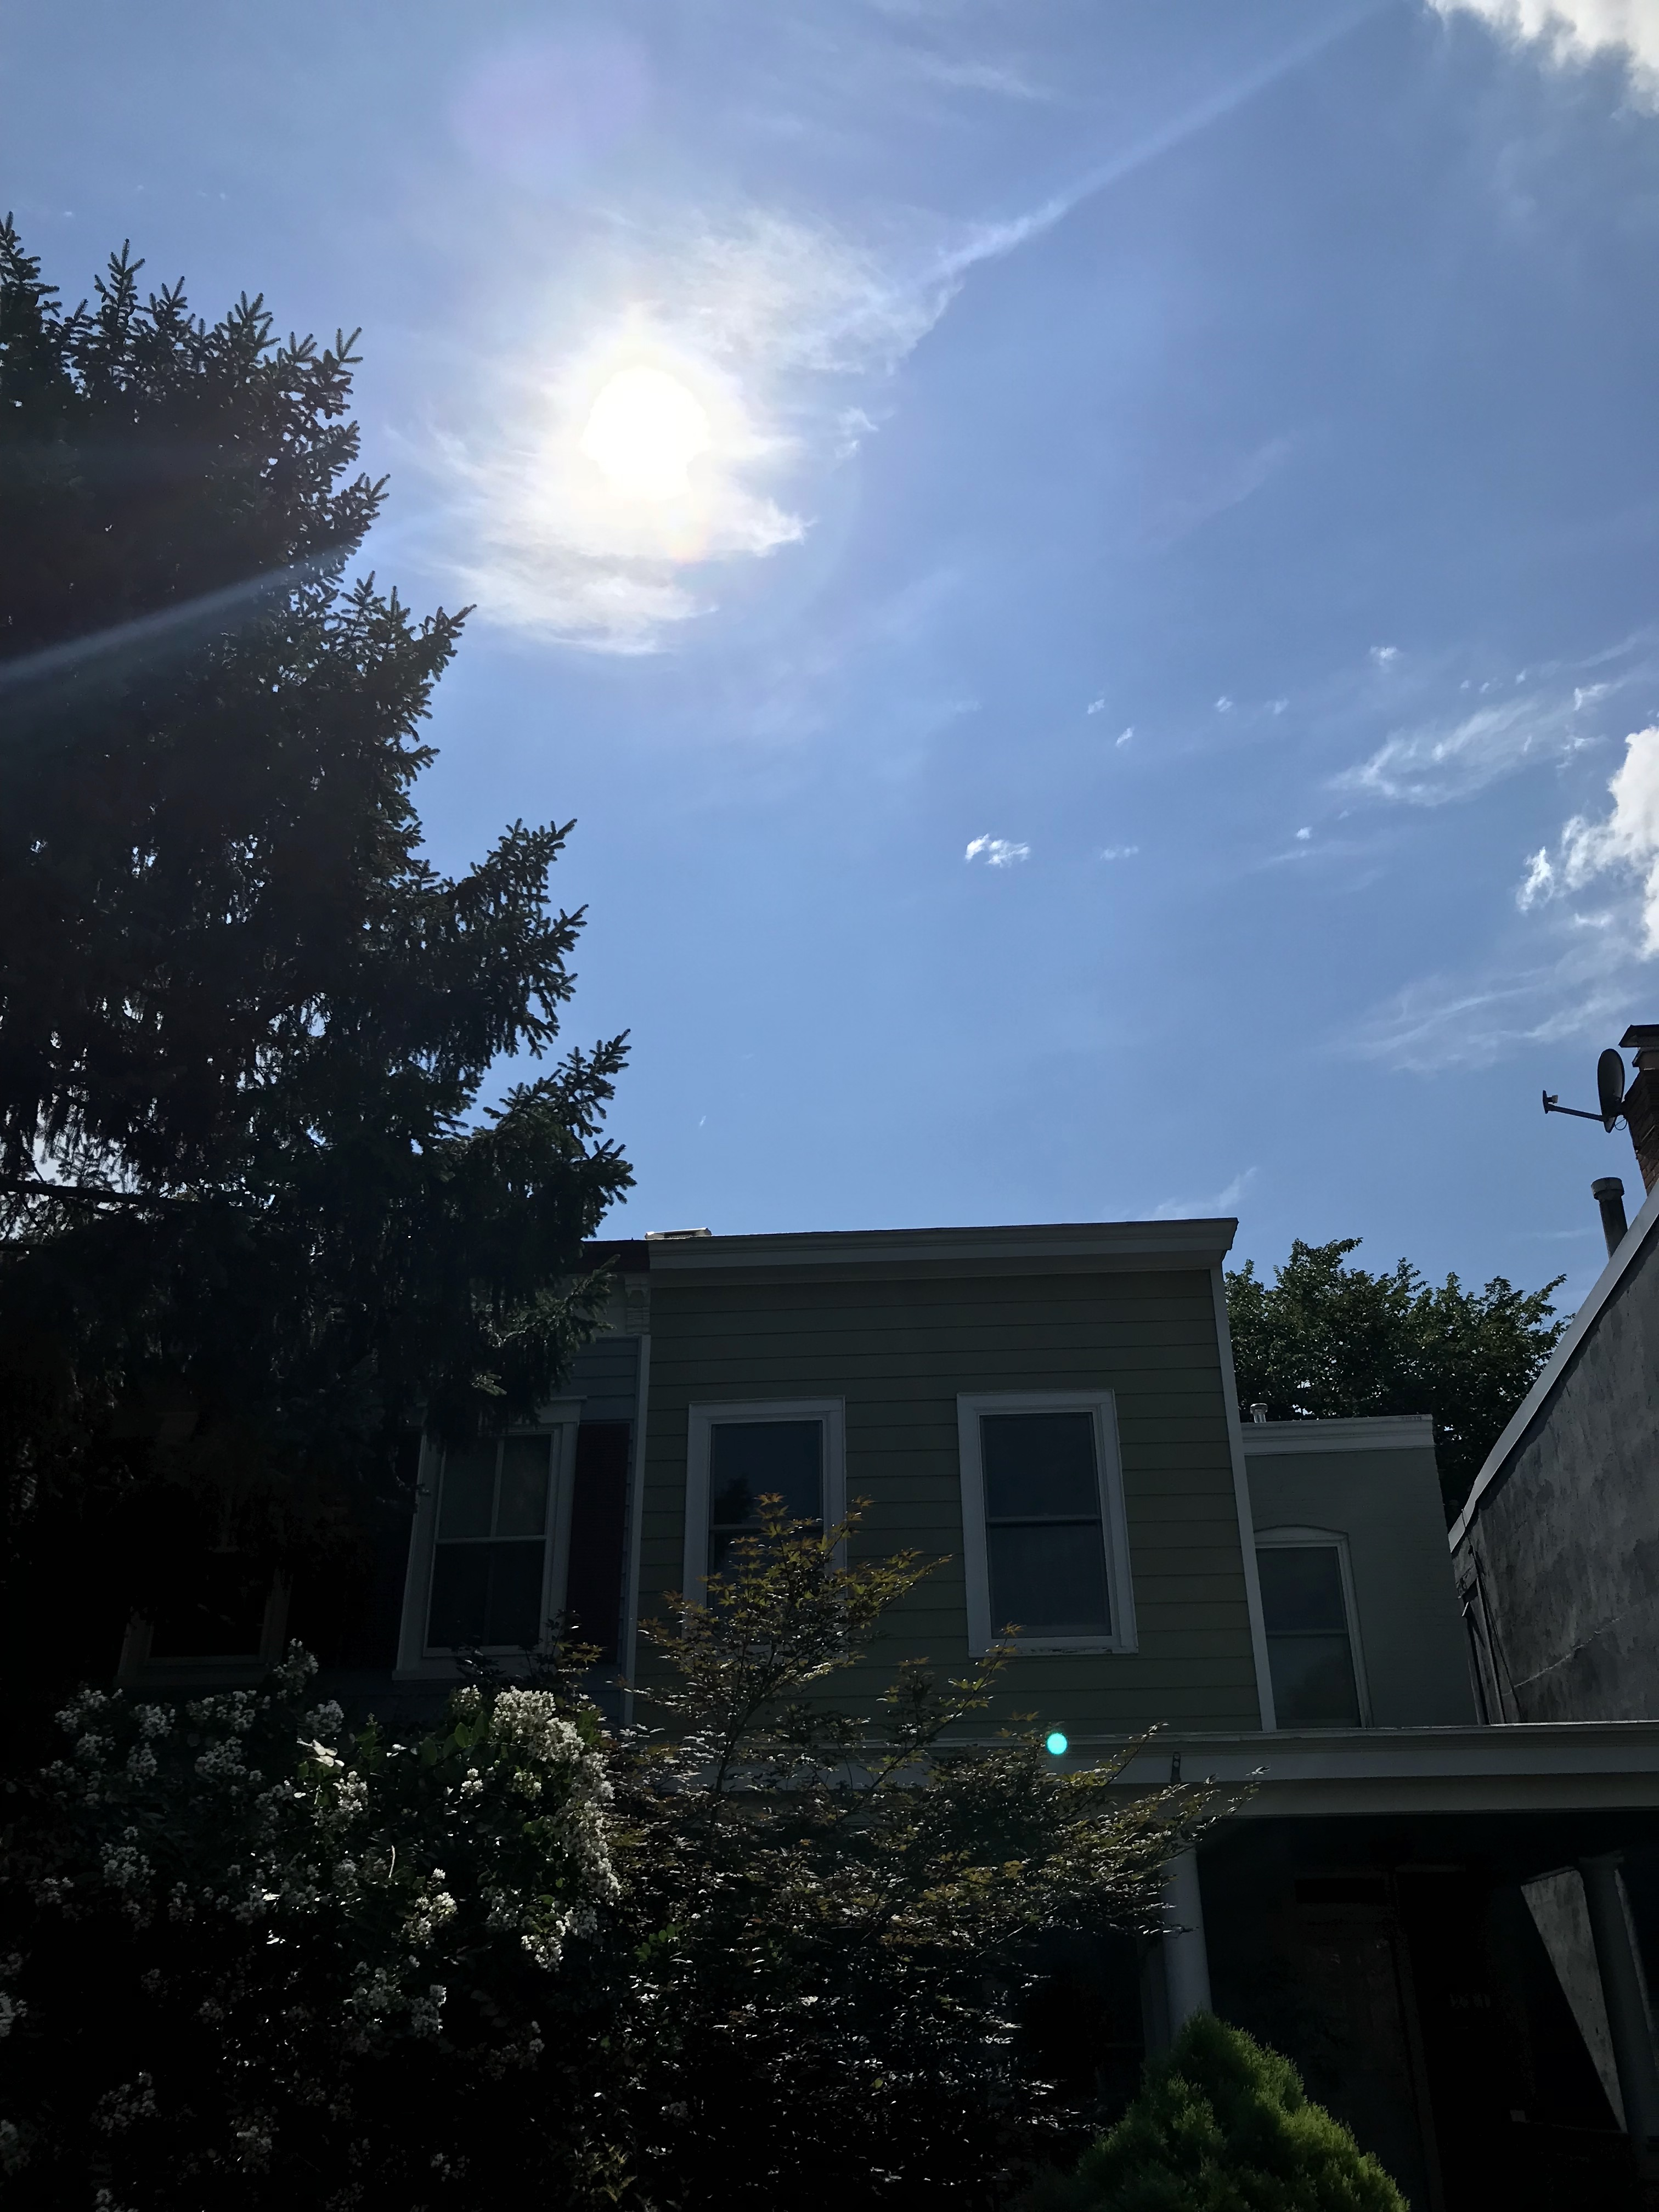flare: (1044, 1730, 1070, 1757)
